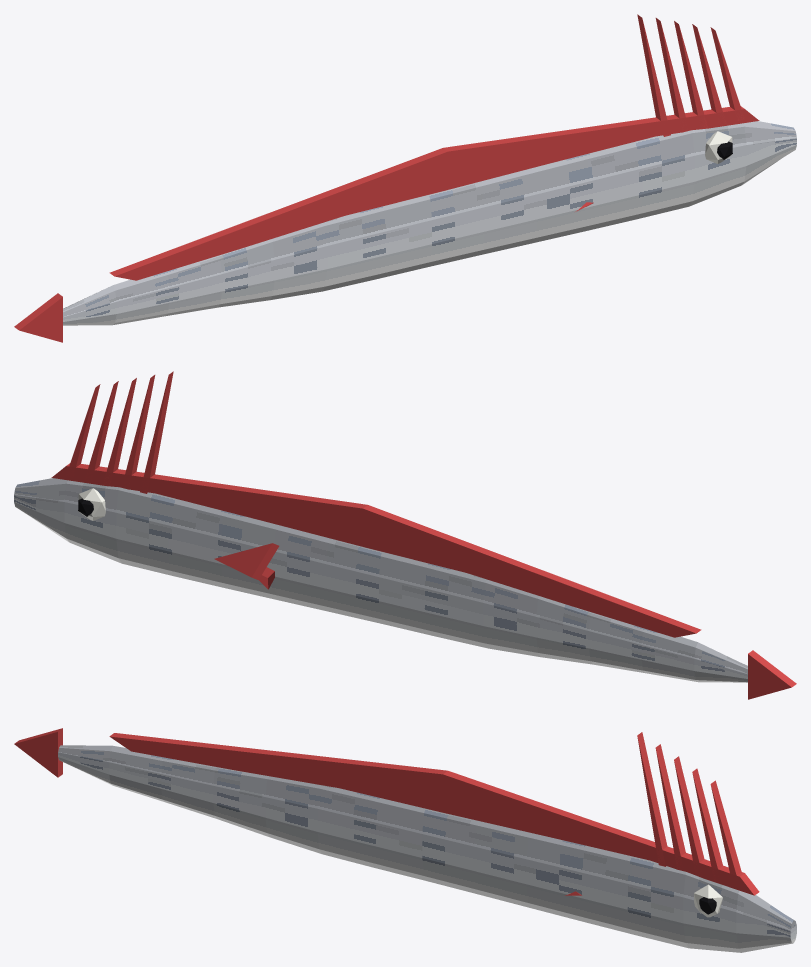
Rendered from oarfish.glb.
3 renders of one model, top to bottom at view 1: azimuth 30°, elevation 25°; view 2: azimuth 150°, elevation 25°; view 3: azimuth 330°, elevation 25°, orthographic.
Parts seen in each view (by area): view 1: fish_oarfish; view 2: fish_oarfish; view 3: fish_oarfish.
Part boxes in pixels (box(x1,y1,x2,y2)): fish_oarfish: box(14, 14, 796, 342); fish_oarfish: box(14, 371, 796, 699); fish_oarfish: box(14, 728, 796, 952).
Bounding box in the file's own units: 1.06 × 0.2642 × 0.0706.
5 materials, 1 textured.
